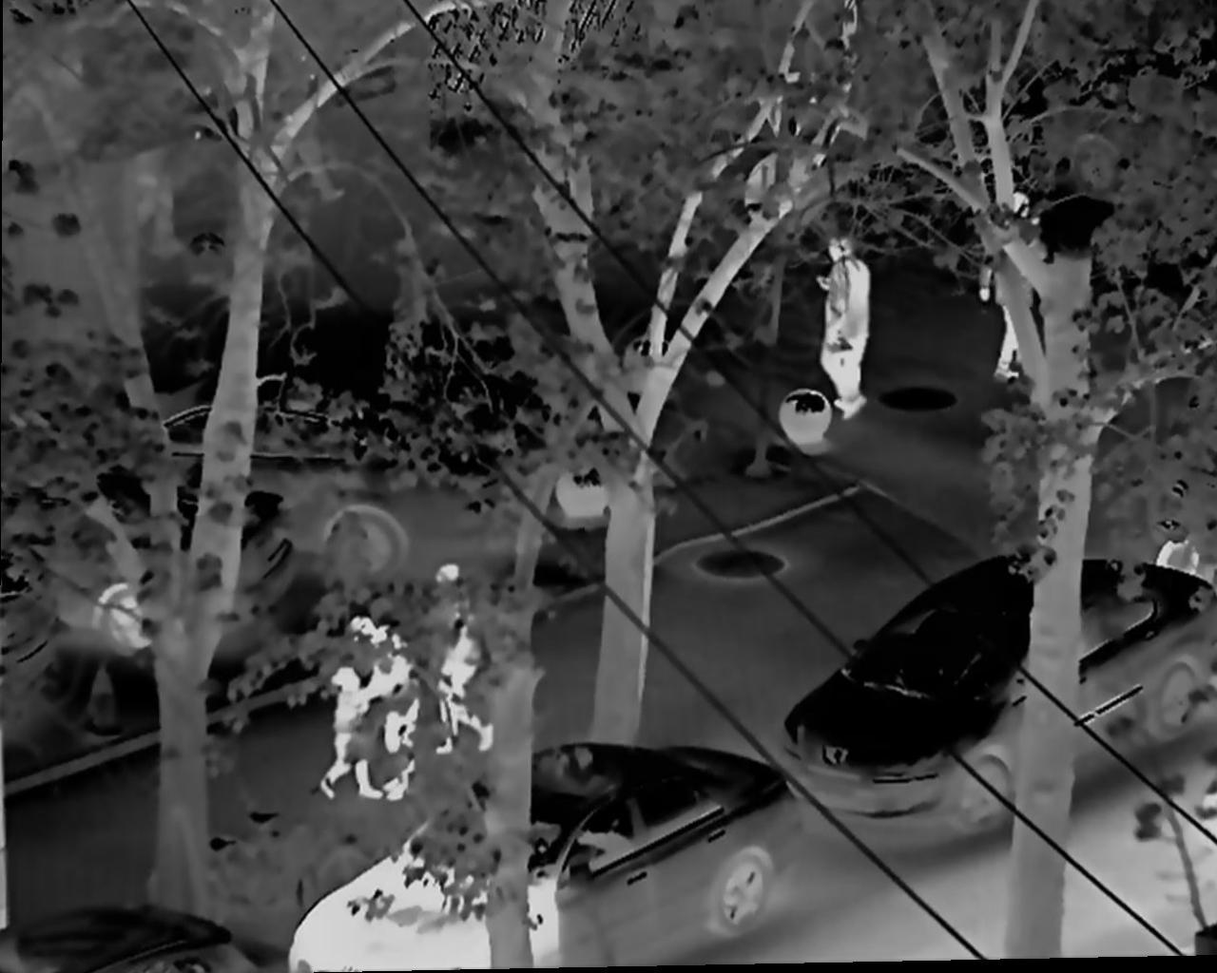person: (977, 188, 1060, 388), (424, 563, 497, 761), (804, 240, 870, 419), (369, 623, 422, 805), (319, 653, 377, 806)
